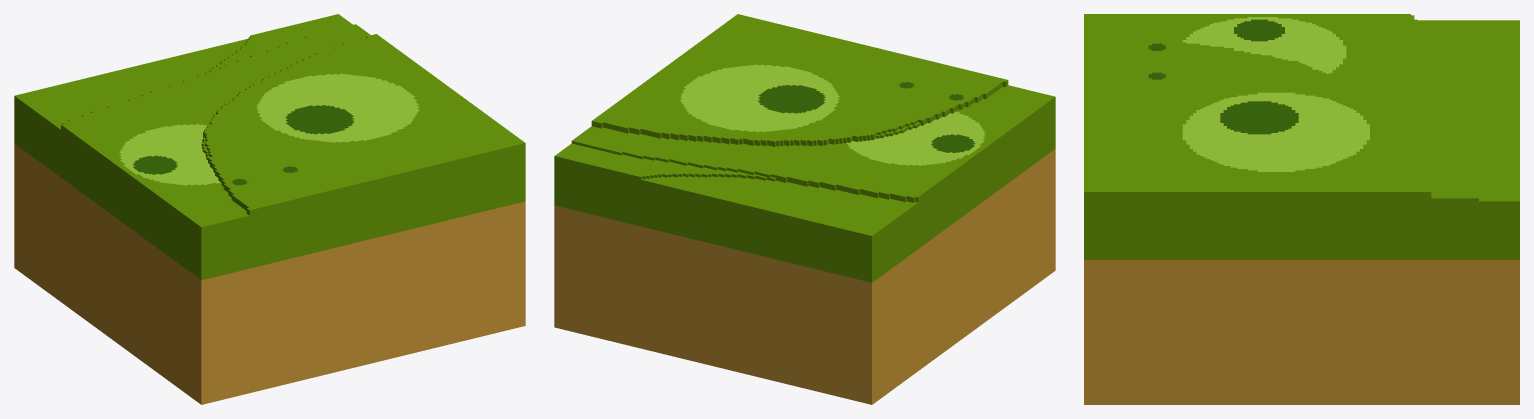
The picture shows the model from 3 angles, left to right: view 1: azimuth 30°, elevation 25°; view 2: azimuth 150°, elevation 25°; view 3: azimuth 270°, elevation 25°; orthographic projection. The views are drawn at different scales.
Visible parts, largest first — view 1: 15G; view 2: 15G; view 3: 15G.
Boxes of the visible parts, x1,y1,x2,y2 form: 15G: (14,14,525,404); 15G: (554,14,1055,404); 15G: (1084,14,1519,404).
Size of the model in its own units: 12.8 by 6.9 by 12.8.
1 material, 1 textured.
